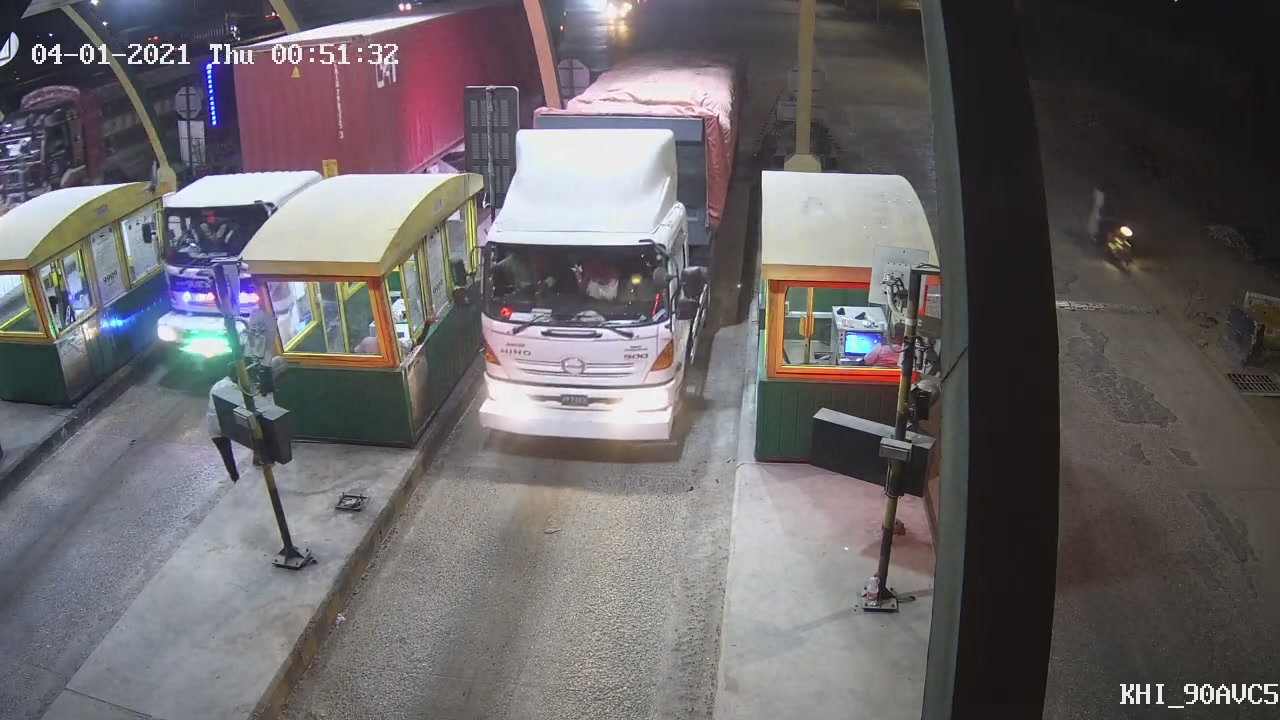F5: (461, 19, 749, 462)
